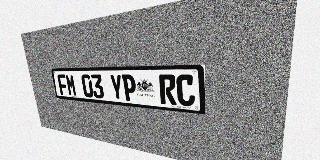0: (81, 74, 94, 98)
3: (91, 74, 104, 99)
C: (176, 74, 195, 107)
F: (57, 74, 68, 95)
M: (65, 74, 77, 96)
P: (121, 74, 137, 102)
R: (159, 74, 177, 105)
Y: (109, 74, 124, 100)
